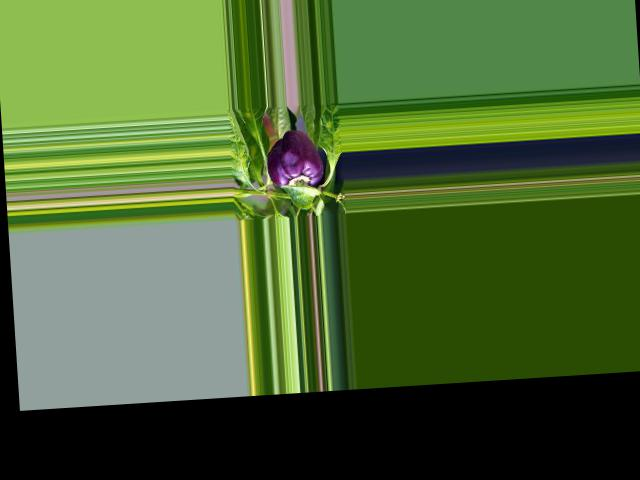bell_pepper: (263, 126, 324, 195)
